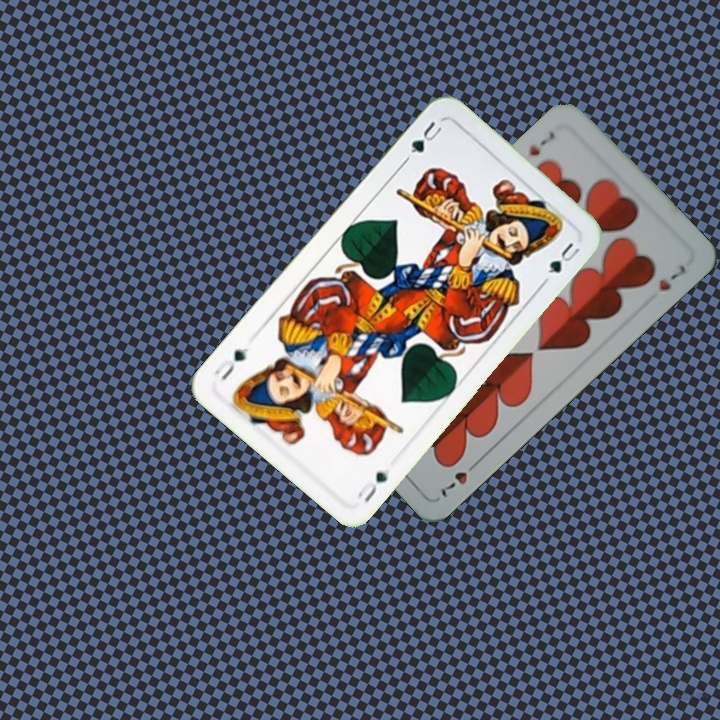GU: (400, 117, 447, 164), (352, 467, 390, 506)
H7: (436, 455, 482, 501), (524, 127, 558, 159)
